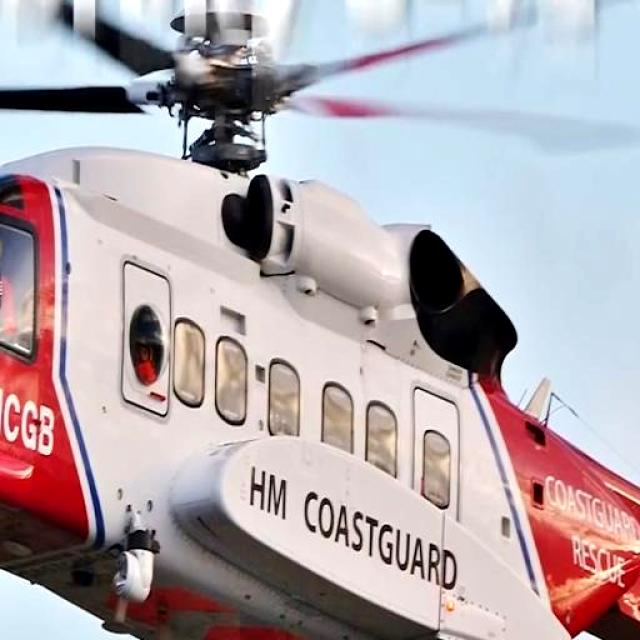drone: (0, 66, 640, 640)
